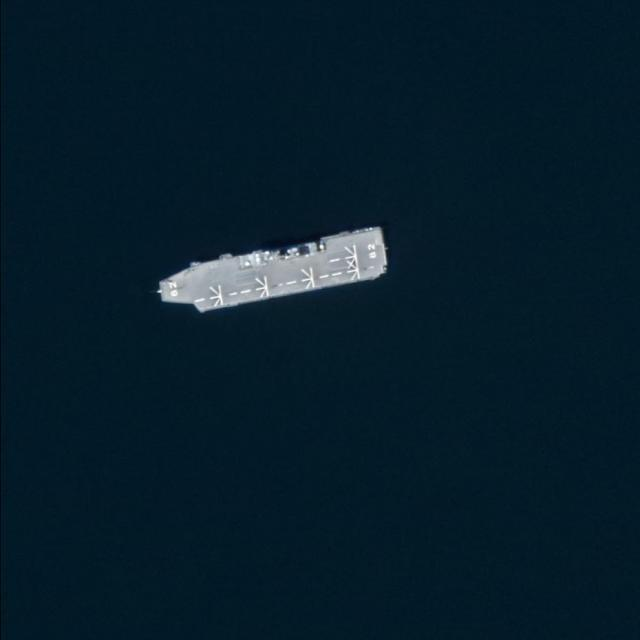Destroyer: (153, 227, 390, 317)
